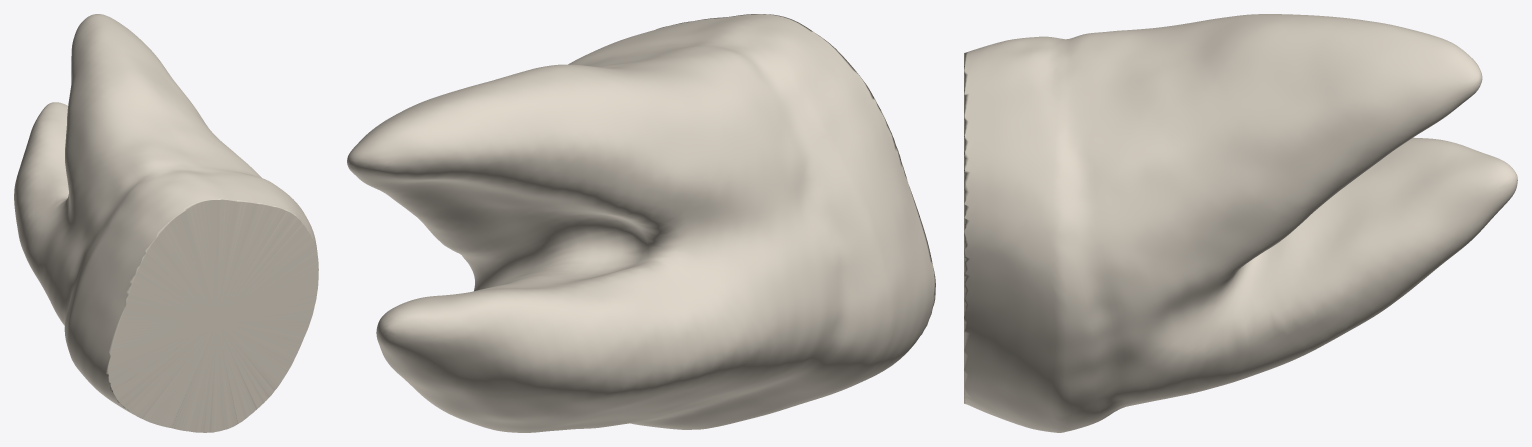
File: r3-prep-crown-36.glb
3 views of the same model, side by side, from view 1: azimuth 30°, elevation 25°; view 2: azimuth 150°, elevation 25°; view 3: azimuth 270°, elevation 25° (orthographic). The views are drawn at different scales.
Bounding box in the file's own units: 9.27 × 10.55 × 13.23.
